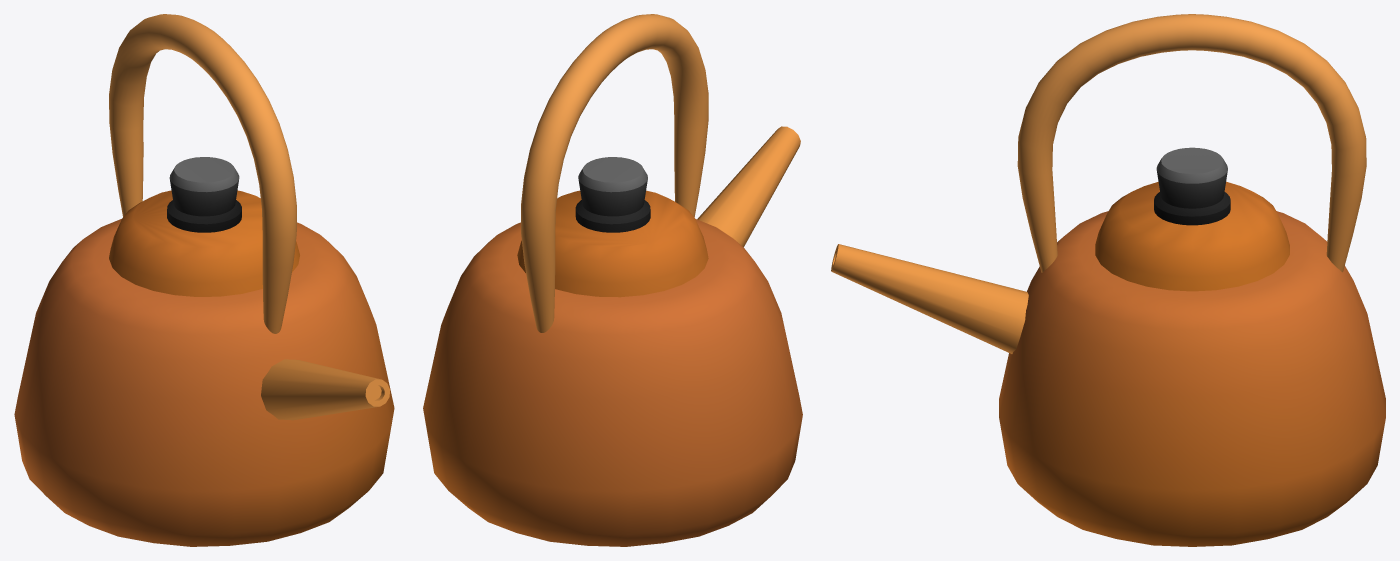
Rendered from Tea Pot_9.fbx.
3 views of the same model, side by side, from view 1: azimuth 30°, elevation 25°; view 2: azimuth 150°, elevation 25°; view 3: azimuth 270°, elevation 25° (orthographic). The views are drawn at different scales.
Visible parts, largest first — view 1: Tea Pot_9, Tea Pot_9 Top; view 2: Tea Pot_9, Tea Pot_9 Top; view 3: Tea Pot_9, Tea Pot_9 Top.
Boxes of the visible parts, x1=… form: Tea Pot_9: x1=14, y1=14, x2=394, y2=546; Tea Pot_9 Top: x1=109, y1=157, x2=299, y2=296; Tea Pot_9: x1=423, y1=14, x2=802, y2=546; Tea Pot_9 Top: x1=517, y1=157, x2=708, y2=297; Tea Pot_9: x1=831, y1=14, x2=1385, y2=546; Tea Pot_9 Top: x1=1095, y1=147, x2=1289, y2=291.
Size of the model in its own units: 0.2107 by 0.2751 by 0.3.
Materials: 1 (1 with a texture image).
